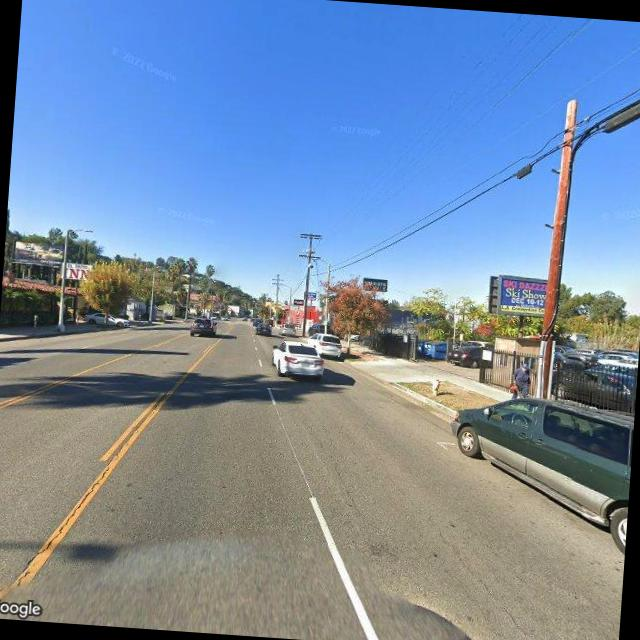pothole: (411, 510, 558, 640), (2, 448, 118, 595)
